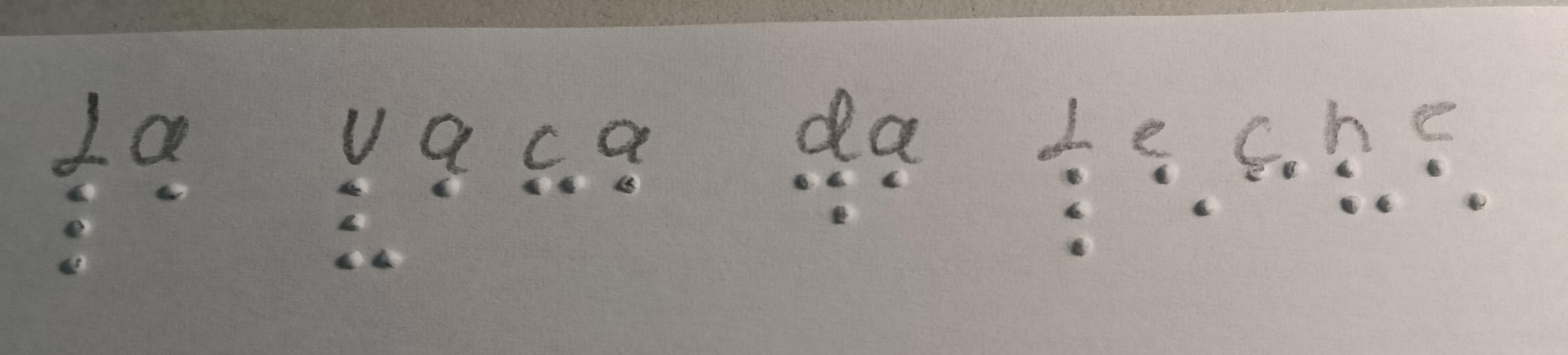a: (116, 177, 236, 229), (422, 164, 498, 218), (858, 153, 924, 214), (605, 162, 658, 212)
c: (500, 166, 599, 214), (1228, 159, 1319, 205)
d: (795, 159, 863, 234)
e: (1129, 159, 1223, 227), (1413, 153, 1496, 216)
h: (1326, 155, 1400, 229)
l: (1033, 162, 1116, 266), (55, 175, 103, 286)
v: (310, 159, 422, 282)
